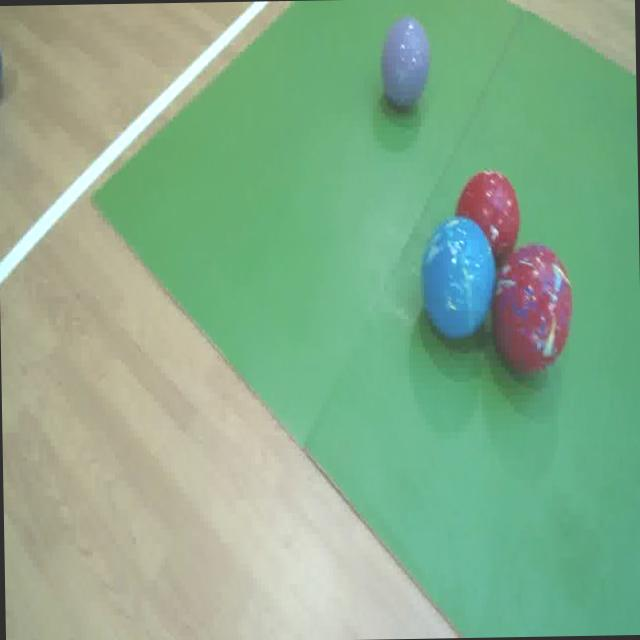blue_ball: (419, 214, 497, 341)
purple_ball: (379, 10, 433, 114)
red_ball: (494, 238, 576, 378), (453, 167, 521, 267)
